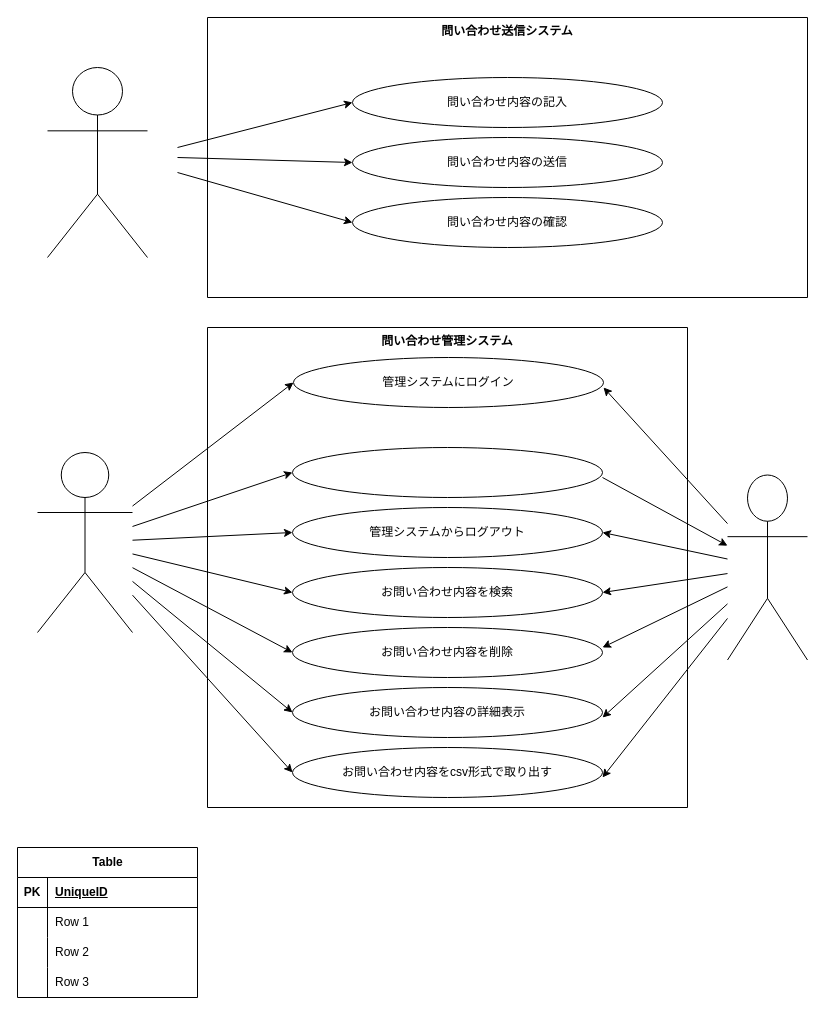
Image size: 825x1015. Some labels were removed from this diagram. The centre of each missing label's shape, as x and y in pixels:
利用者: the point at 97,162
新規ユーザーの作成・登録: the point at 447,472
新規管理者: the point at 767,567
管理者: the point at 84,542
